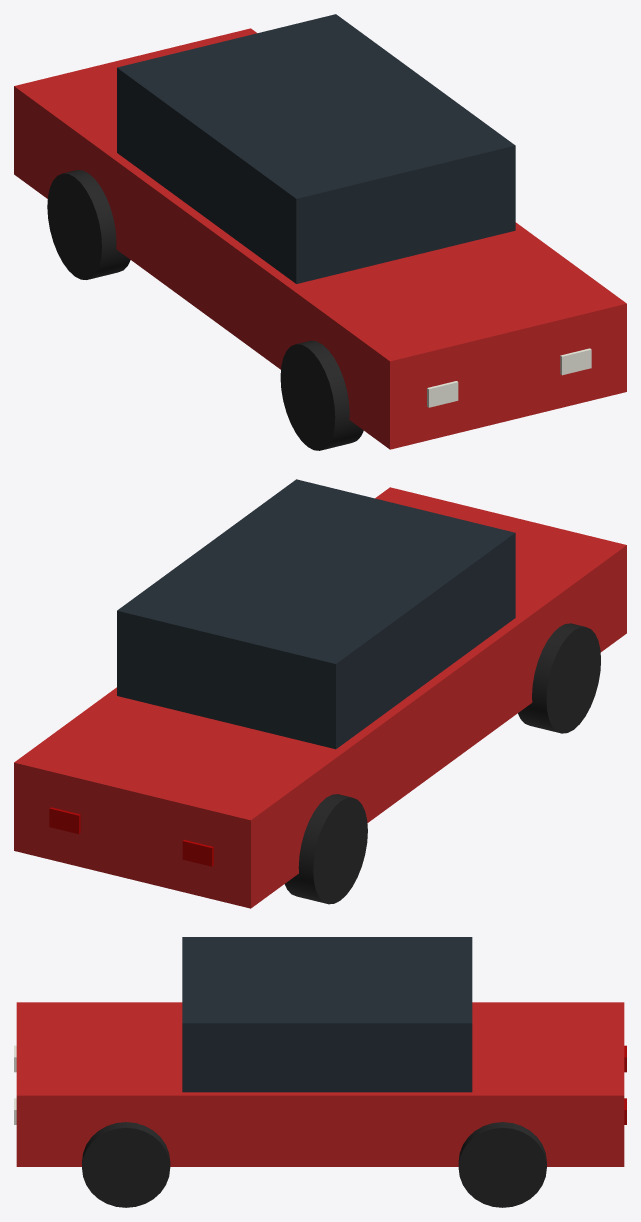
File: car_test_car.gltf
The picture shows the model from 3 angles, top to bottom: view 1: azimuth 30°, elevation 25°; view 2: azimuth 150°, elevation 25°; view 3: azimuth 270°, elevation 25°; orthographic projection. The views are drawn at different scales.
Parts seen in each view (by area): view 1: body, cabin, wheel, light_front; view 2: body, cabin, wheel, light_rear; view 3: body, cabin, wheel.
Part boxes in pixels (box(x1,y1,x2,y2)): body: box(14, 28, 626, 449); cabin: box(117, 14, 515, 283); wheel: box(47, 170, 363, 450); light_front: box(427, 348, 591, 407); body: box(14, 487, 626, 908); cabin: box(117, 479, 515, 749); wheel: box(284, 623, 600, 904); light_rear: box(49, 807, 213, 866); body: box(16, 1002, 624, 1166); cabin: box(182, 937, 472, 1092); wheel: box(82, 1122, 546, 1207).
Size of the model in its own units: 1.8 by 1.4 by 4.44.
